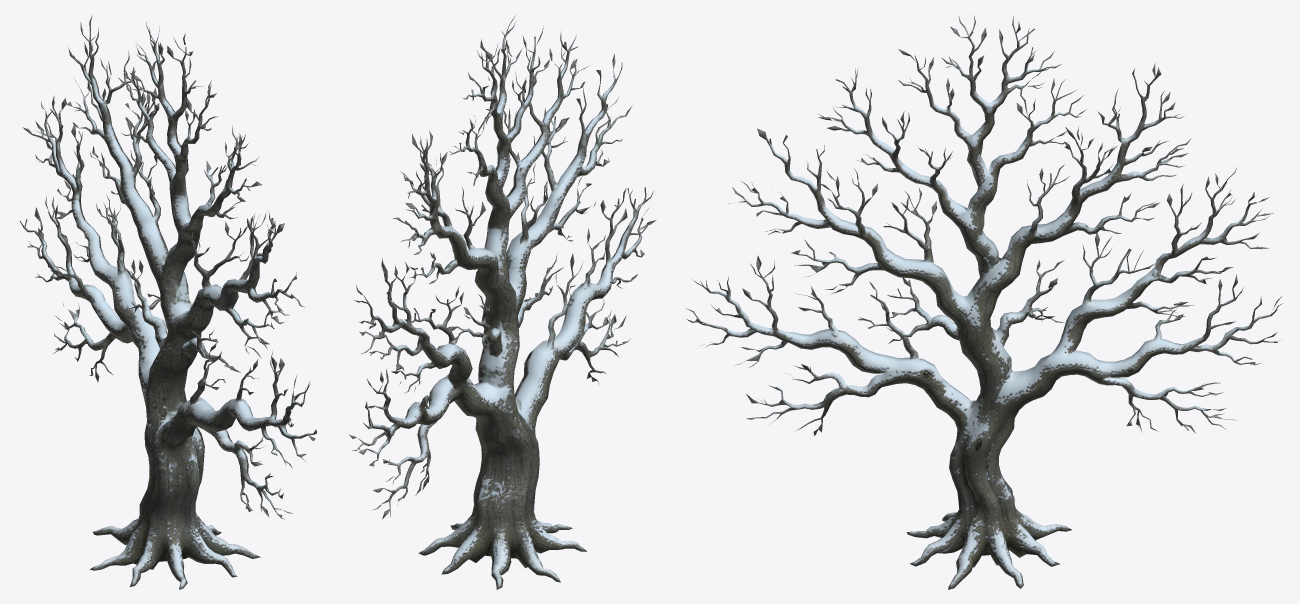
The model's file is snow-tree.glb.
3 views of the same model, side by side, from view 1: azimuth 30°, elevation 25°; view 2: azimuth 150°, elevation 25°; view 3: azimuth 270°, elevation 25° (orthographic).
Parts seen in each view (by area): view 1: a9a1957f_baa6_4f8c_89a5_5061c0631719; view 2: a9a1957f_baa6_4f8c_89a5_5061c0631719; view 3: a9a1957f_baa6_4f8c_89a5_5061c0631719.
Boxes of the visible parts, x1,y1,x2,y2 form: a9a1957f_baa6_4f8c_89a5_5061c0631719: (20, 15, 316, 589); a9a1957f_baa6_4f8c_89a5_5061c0631719: (349, 15, 656, 589); a9a1957f_baa6_4f8c_89a5_5061c0631719: (686, 16, 1283, 589).
Size of the model in its own units: 0.2759 by 0.9956 by 0.9995.
1 material, 1 textured.
